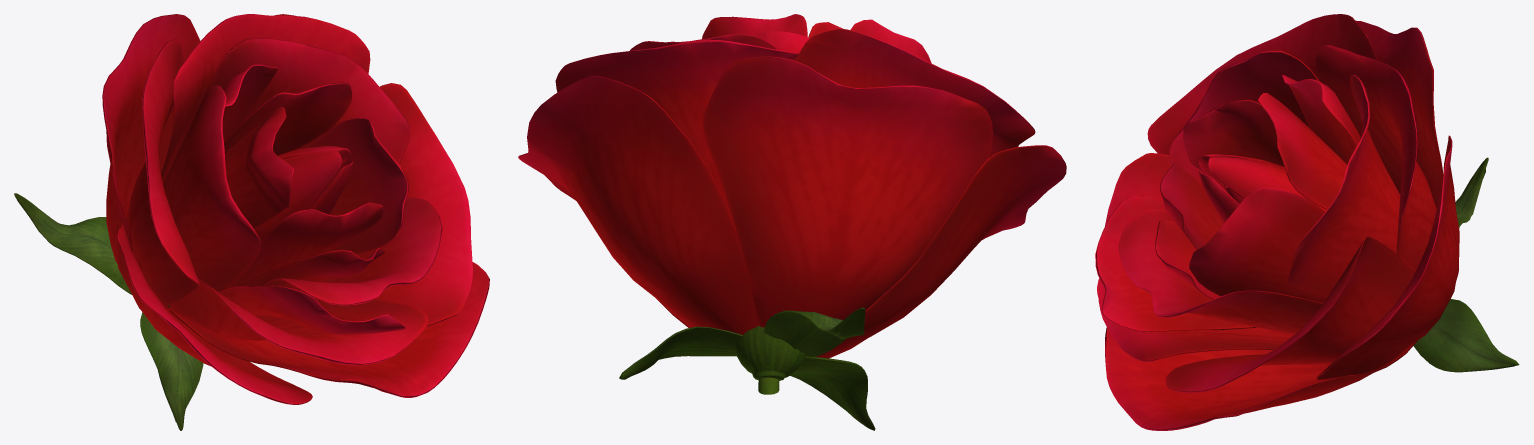
Rendered from rose.glb.
The picture shows the model from 3 angles, left to right: view 1: azimuth 30°, elevation 25°; view 2: azimuth 150°, elevation 25°; view 3: azimuth 270°, elevation 25°; orthographic projection. The views are drawn at different scales.
Visible parts, largest first — view 1: node_id30; view 2: node_id30; view 3: node_id30.
Part boxes in pixels (x1,y1,x2,y2): node_id30: (14,14,489,430); node_id30: (518,14,1066,430); node_id30: (1095,14,1519,430).
Size of the model in its own units: 0.1855 by 0.1667 by 0.166.
1 material, 1 textured.
